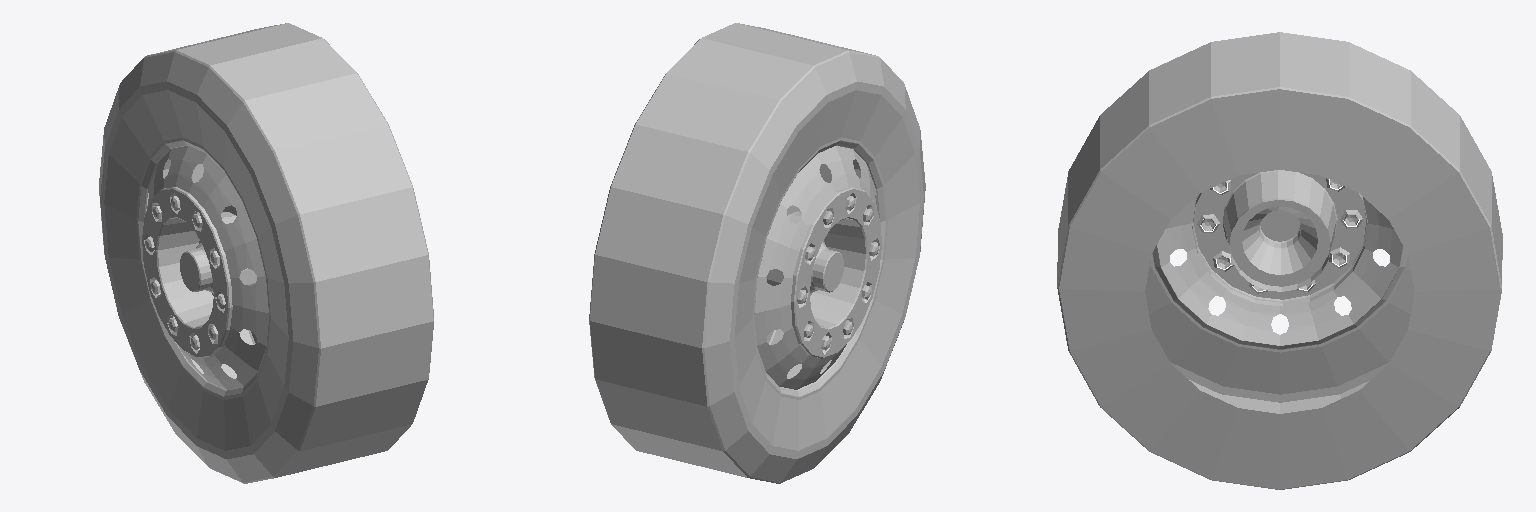
File: BusFrontLeft.obj
3 views of the same model, side by side, from view 1: azimuth 30°, elevation 25°; view 2: azimuth 150°, elevation 25°; view 3: azimuth 270°, elevation 25° (orthographic).
Visible parts, largest first — view 1: BUS_FRWHEEL.001_Mesh.010; view 2: BUS_FRWHEEL.001_Mesh.010; view 3: BUS_FRWHEEL.001_Mesh.010.
Boxes of the visible parts, <box> form: BUS_FRWHEEL.001_Mesh.010: <box>99,23,433,483</box>; BUS_FRWHEEL.001_Mesh.010: <box>589,23,925,483</box>; BUS_FRWHEEL.001_Mesh.010: <box>1057,32,1502,489</box>.
Bounding box in the file's own units: 0.4603 × 1.2 × 1.2.